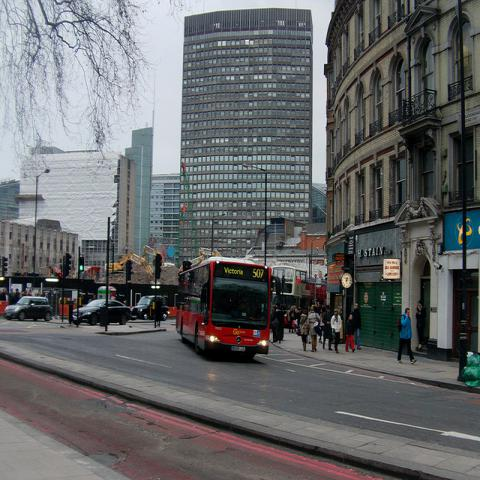bus: (175, 257, 272, 361), (272, 266, 327, 315)
car: (72, 299, 130, 326), (5, 296, 53, 322), (130, 296, 170, 322)
